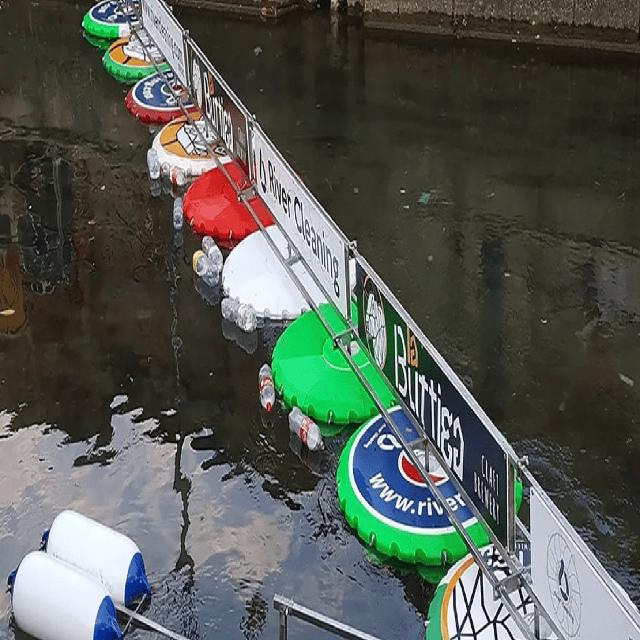bottle: (290, 405, 325, 455), (221, 296, 259, 336), (191, 248, 221, 290), (257, 364, 277, 412), (201, 234, 225, 273), (163, 162, 189, 185), (146, 146, 162, 180), (172, 196, 184, 231)
